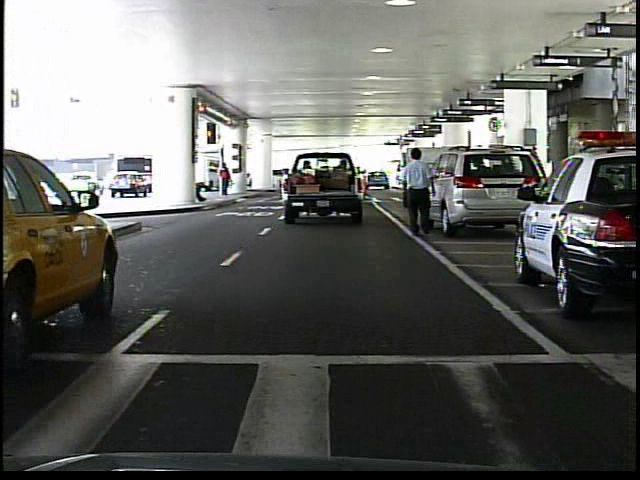person: (397, 144, 441, 238), (218, 162, 235, 199)
